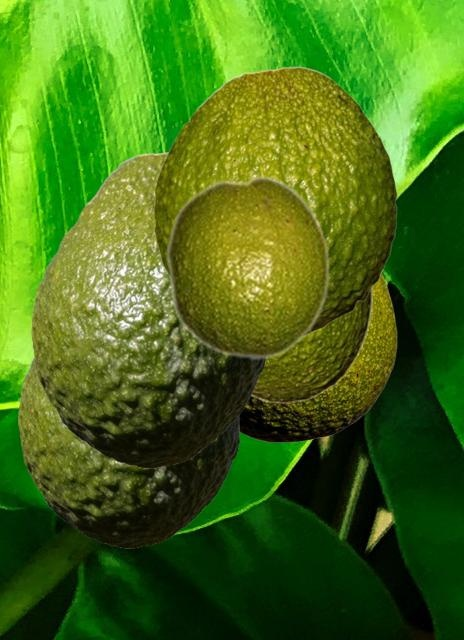avocado: (31, 151, 265, 467), (153, 66, 396, 337), (18, 355, 238, 547), (165, 174, 330, 360), (239, 273, 396, 441), (252, 289, 372, 403)
